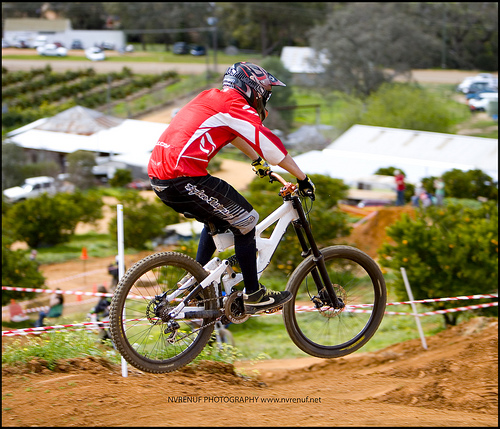helmet: (224, 64, 279, 104)
